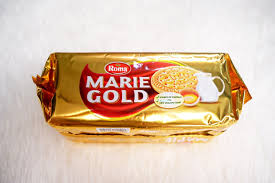Roma Marie Gold (240g): (31, 46, 250, 147)
